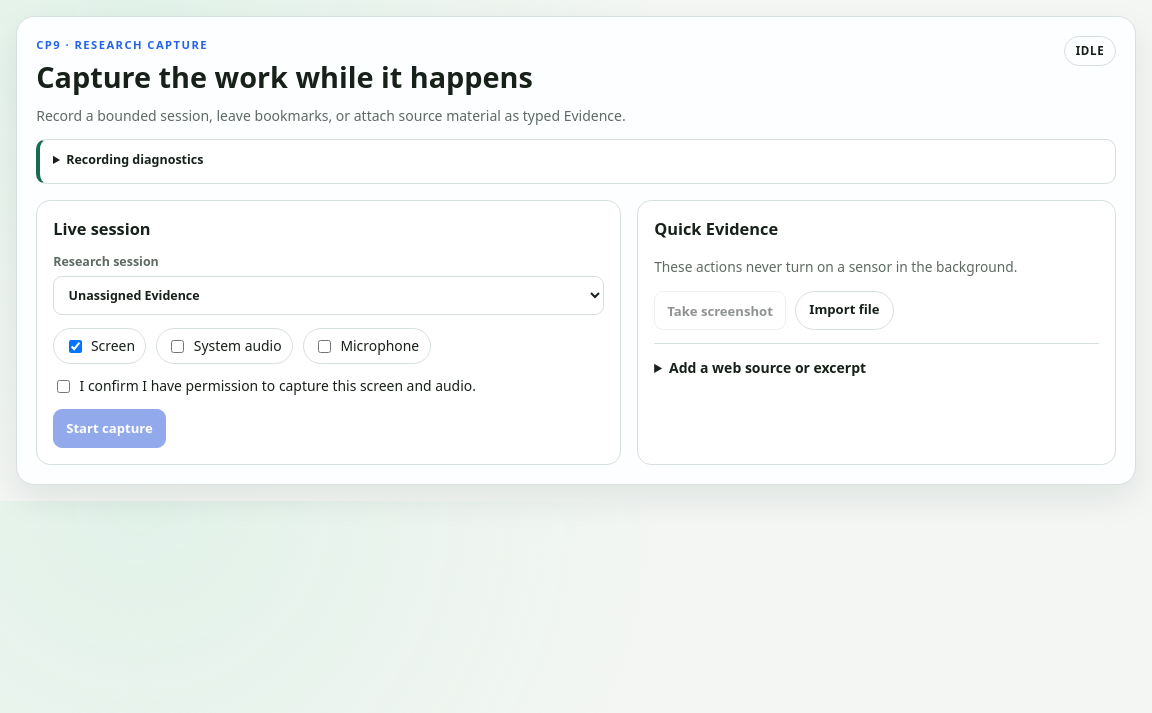
CP9 capture consent boundary › starts native screen capture only on a consented click and saves to Workspace
The image size is (1152, 713).
Click the checkbox labelled "I confirm I have permission to capture this screen and audio." at [64, 386], box [57,380,70,393]
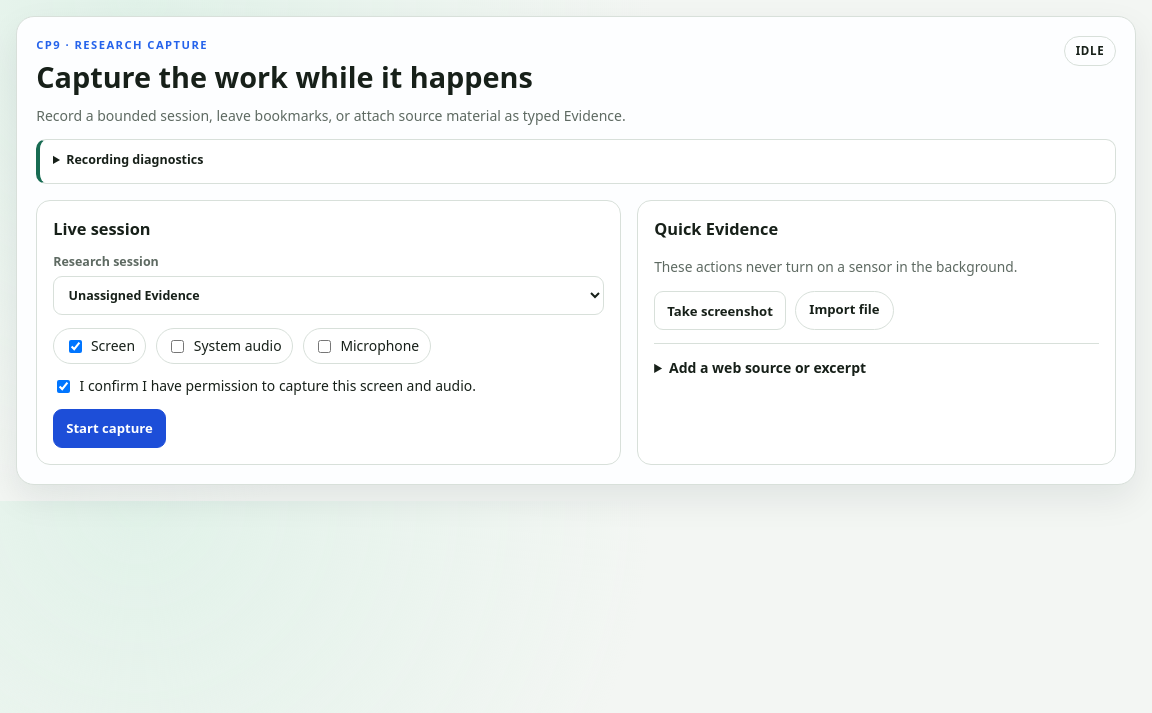
Click the button "Start capture" at [110, 428], box [53,409,166,448]
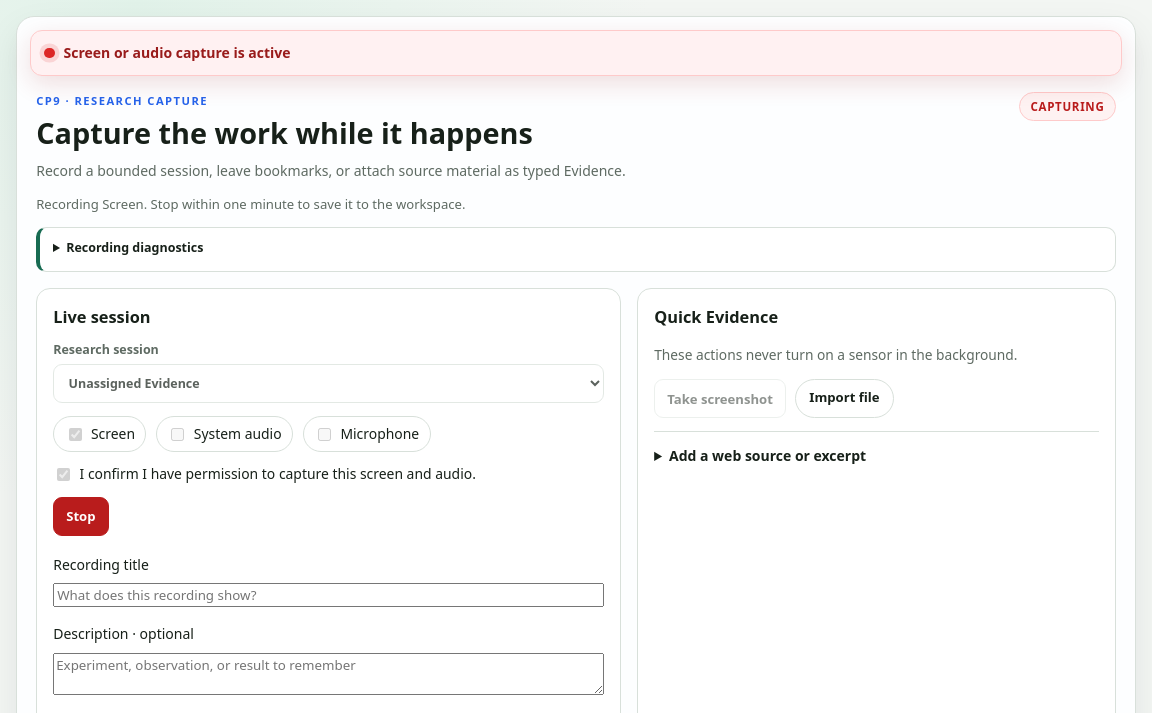
Click the button "Stop" at [81, 516], box [53,497,108,536]
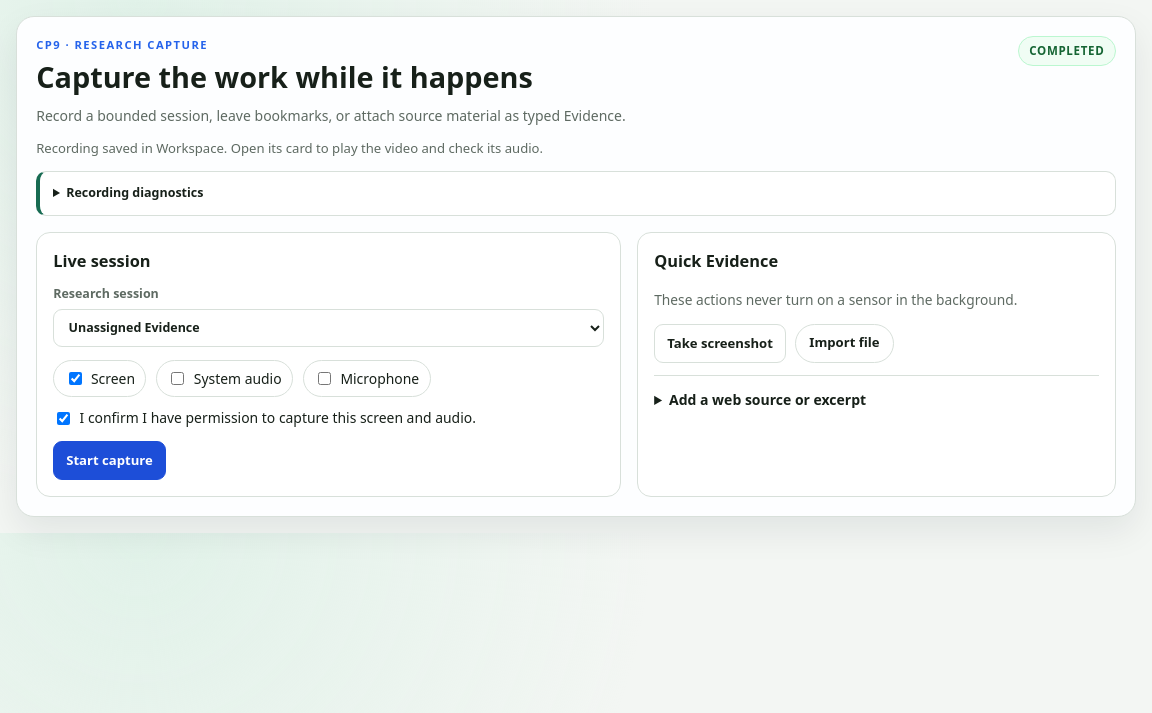
Now the text "Recording saved in Workspace" is shown, box [36,139,543,157]
Now the button "Start capture" is enabled, box [53,441,166,480]
